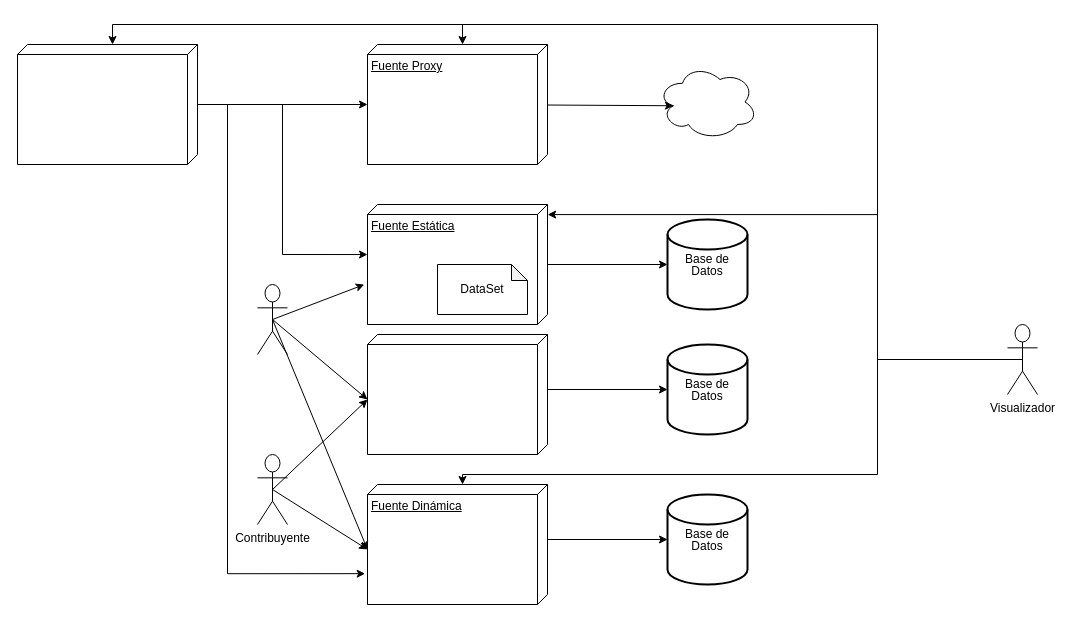
This 1072x622 diagram has some shape labels left out. The centre of each missing label's shape, as x and y in pixels:
"Administrador" goes at point (272, 319).
"Gestor de Reportes" goes at point (457, 394).
"Internet" goes at point (707, 102).
"Servicio de Agregación" goes at point (107, 104).
